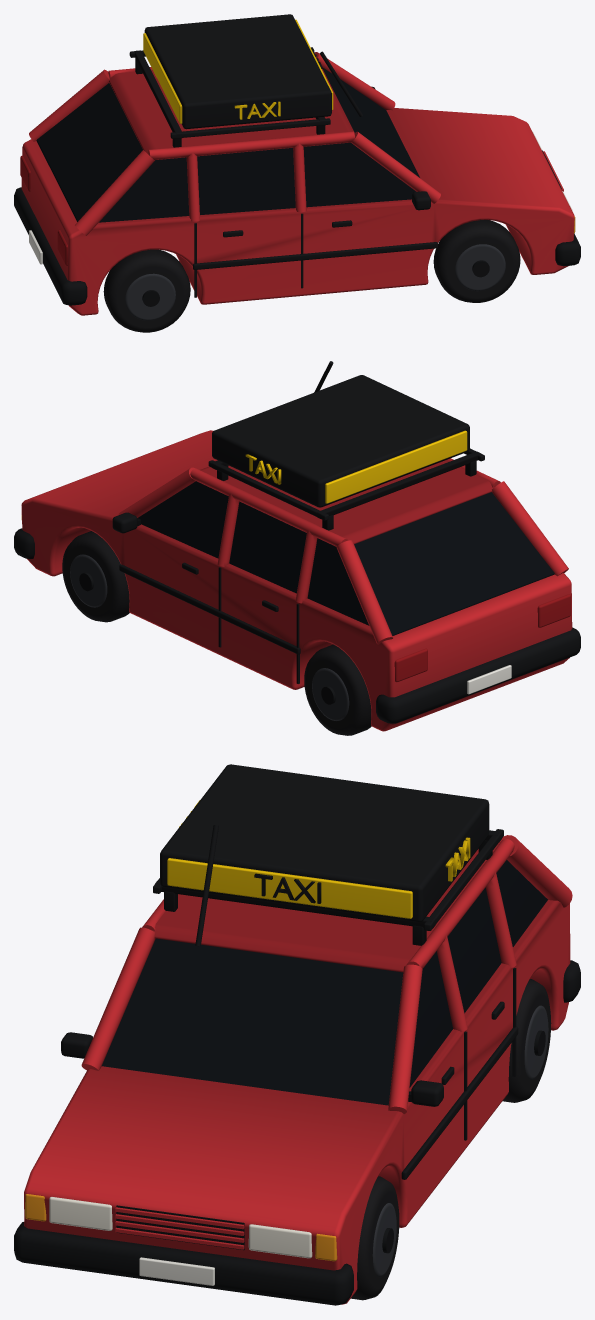
File: piece-0.glb
3 views of the same model, one above another, from view 1: azimuth 30°, elevation 25°; view 2: azimuth 150°, elevation 25°; view 3: azimuth 270°, elevation 25° (orthographic). The views are drawn at different scales.
Parts seen in each view (by area): view 1: Outline; view 2: Outline; view 3: Outline.
Part boxes in pixels (bbox=[...]): Outline: bbox=[14, 14, 580, 332]; Outline: bbox=[14, 361, 580, 735]; Outline: bbox=[14, 764, 580, 1305].
Bounding box in the file's own units: 2.12 × 0.9834 × 1.43.
